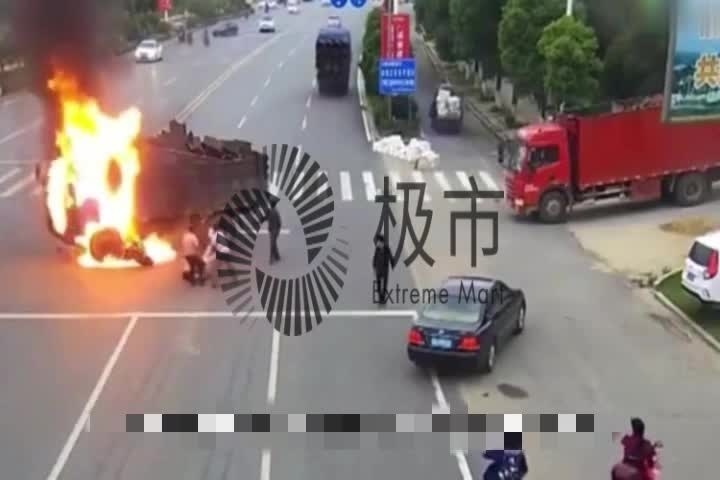fire: (43, 71, 168, 271)
